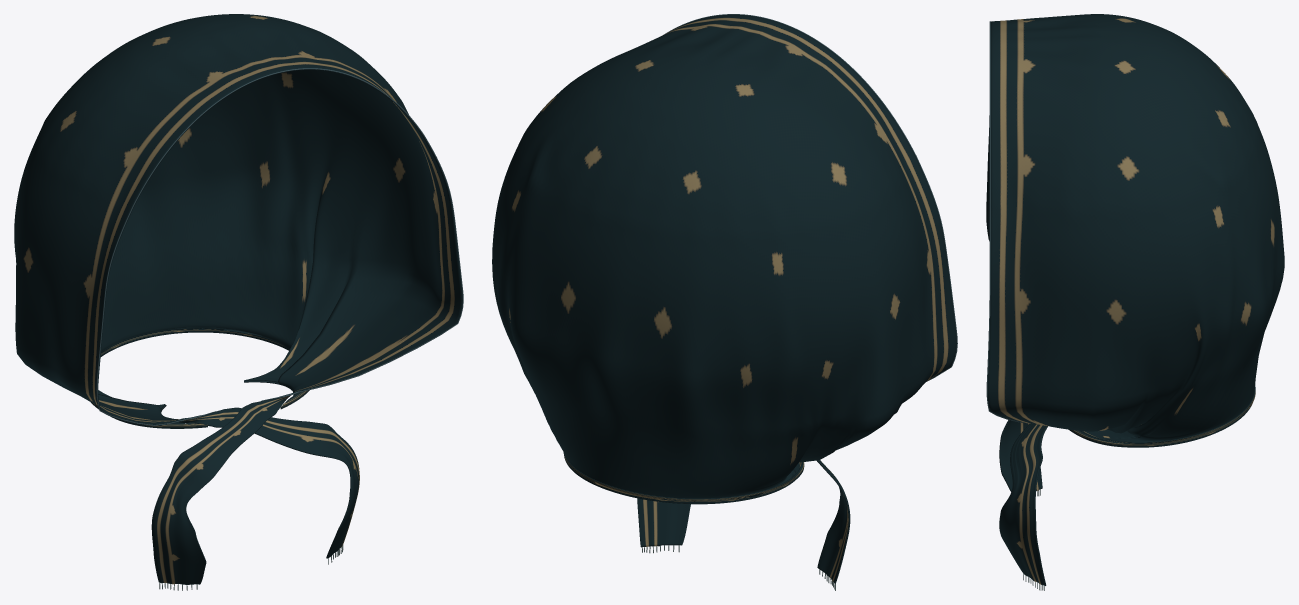
Rendered from Feminine-sweatshirt-long-pashmina248-headgear.glb.
The picture shows the model from 3 angles, left to right: view 1: azimuth 30°, elevation 25°; view 2: azimuth 150°, elevation 25°; view 3: azimuth 270°, elevation 25°; orthographic projection. The views are drawn at different scales.
Parts seen in each view (by area): view 1: 226 headgear / Headwear / continuous woven pashmina239, 226 headgear / Headwear / face edge239; view 2: 226 headgear / Headwear / continuous woven pashmina239, 226 headgear / Headwear / face edge239; view 3: 226 headgear / Headwear / continuous woven pashmina239, 226 headgear / Headwear / face edge239.
Part boxes in pixels (box(x1,y1,x2,y2)): 226 headgear / Headwear / continuous woven pashmina239: box(14, 14, 462, 584); 226 headgear / Headwear / face edge239: box(96, 68, 463, 425); 226 headgear / Headwear / continuous woven pashmina239: box(492, 14, 956, 584); 226 headgear / Headwear / face edge239: box(664, 14, 957, 381); 226 headgear / Headwear / continuous woven pashmina239: box(986, 14, 1284, 585); 226 headgear / Headwear / face edge239: box(986, 21, 1029, 423).
Bounding box in the file's own units: 1.02 × 1.35 × 0.7112.
Materials: 3 (1 with a texture image).
